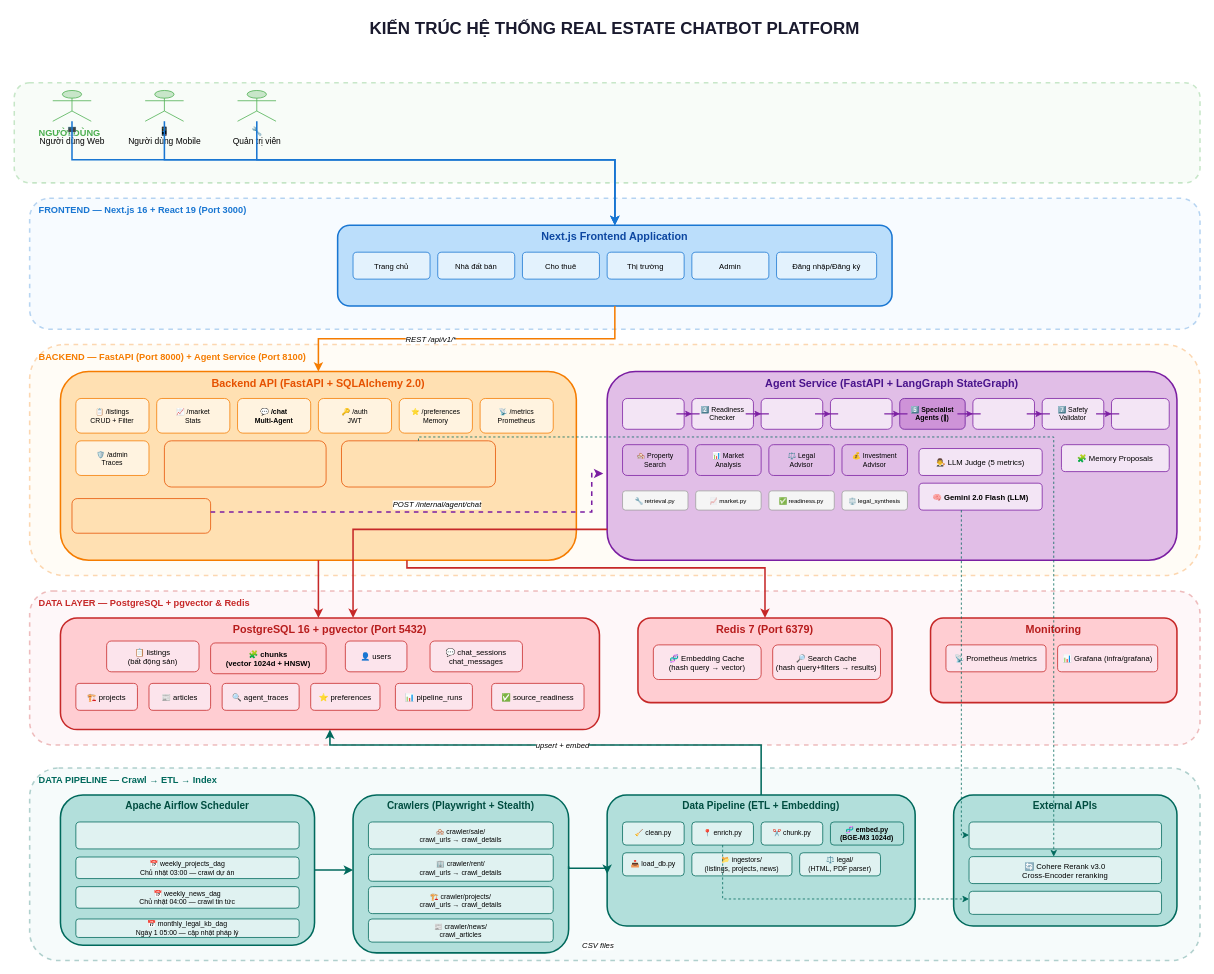
The diagram is 1214 pixels wide and 974 high, and some of its shapes have lost their labels. The shapes that lost their labels are listed below. From the top down, each one's centre as x and y in pixels, then its label:
At point (653, 413): "1️⃣ Context Builder".
At point (791, 413): "3️⃣ Router (Gemini)".
At point (861, 413): "4️⃣ Retrieval Planner".
At point (1003, 413): "6️⃣ Synthesizer".
At point (1140, 413): "8️⃣ Memory Proposals".
At point (245, 463): "🤖 Chatbot Pipeline router → orchestrator → agents (×4 parallel)".
At point (418, 463): "🔍 RAG Services hybrid_search | embeddings simple_rag | cache | ingest".
At point (141, 515): "🔗 Agent Service Client HTTPX + internal key".
At point (187, 835): "📅 daily_listings_dag 02:00 HCM — crawl bán + thuê → ingest → chunk → embed".
At point (1065, 835): "🧠 Google Gemini 2.0 Flash Router + LLM + Judge".
At point (1065, 902): "🗺️ Nominatim / Goong Geocoding".
